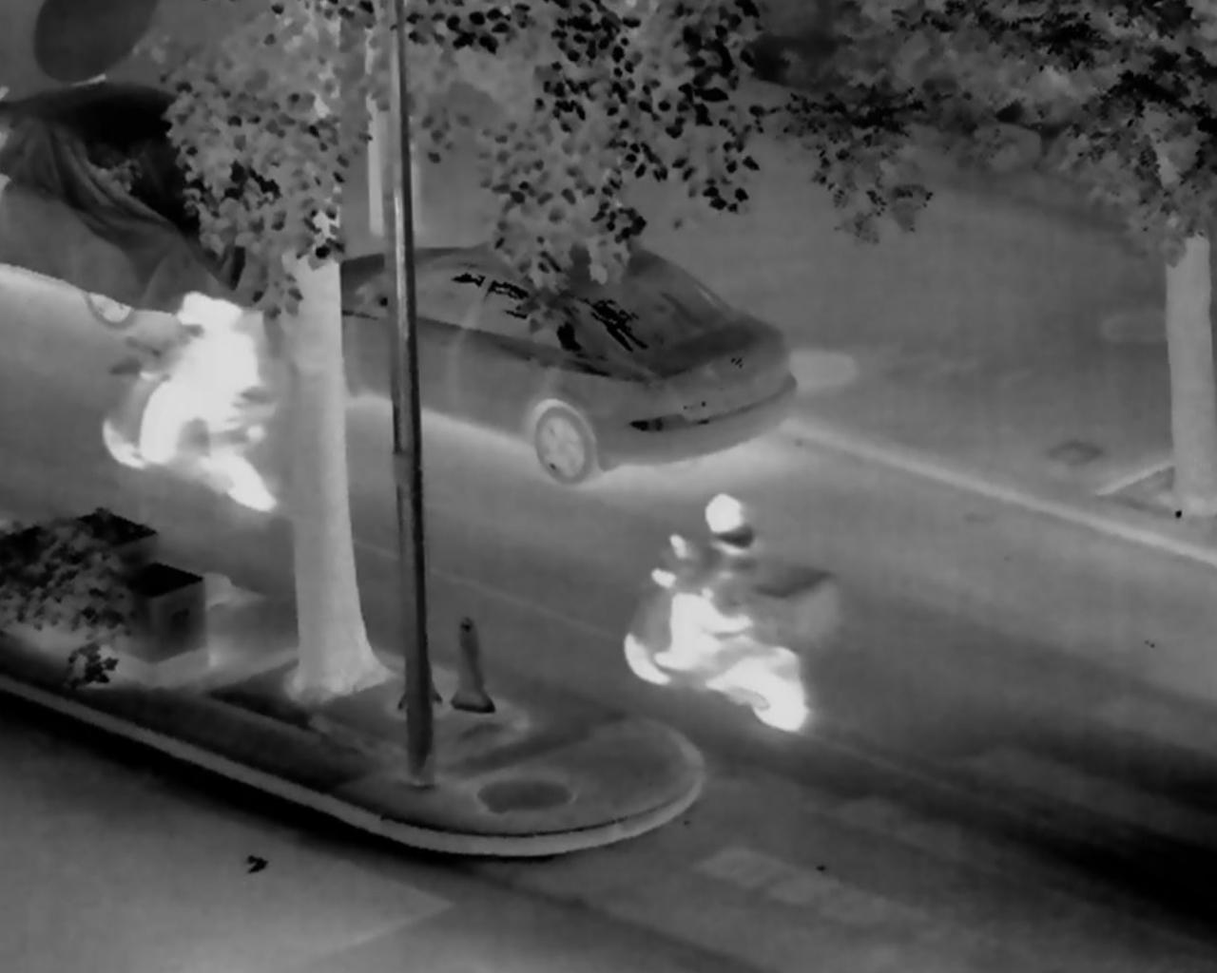person: (652, 496, 763, 669), (141, 294, 254, 462)
